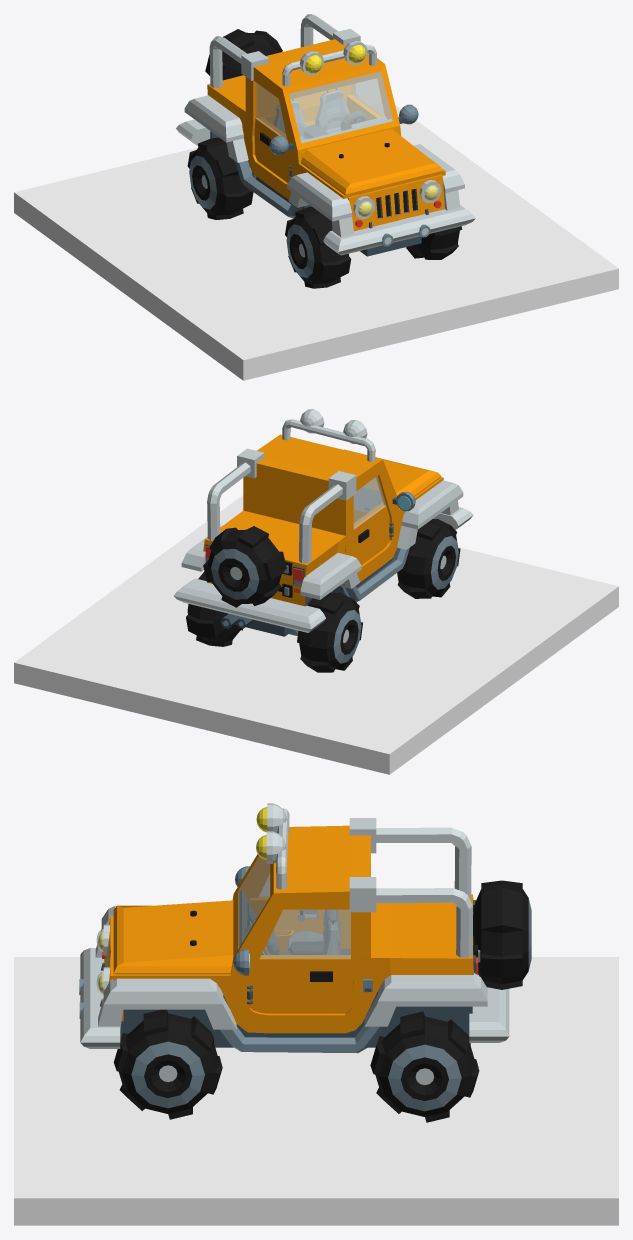
3 renders of one model, top to bottom at view 1: azimuth 30°, elevation 25°; view 2: azimuth 150°, elevation 25°; view 3: azimuth 270°, elevation 25°, orthographic. The views are drawn at different scales.
Parts seen in each view (by area): view 1: group2133652563, group1085046267; view 2: group2133652563, group1085046267; view 3: group2133652563, group1085046267.
Boxes of the visible parts, left/top/right/bottom form: group2133652563: left=14, top=105, right=618, bottom=380; group1085046267: left=176, top=14, right=475, bottom=288; group2133652563: left=14, top=495, right=618, bottom=774; group1085046267: left=173, top=409, right=473, bottom=672; group2133652563: left=14, top=957, right=618, bottom=1225; group1085046267: left=79, top=803, right=531, bottom=1122.
Bounding box in the file's own units: 1.72 × 0.9492 × 1.82.
